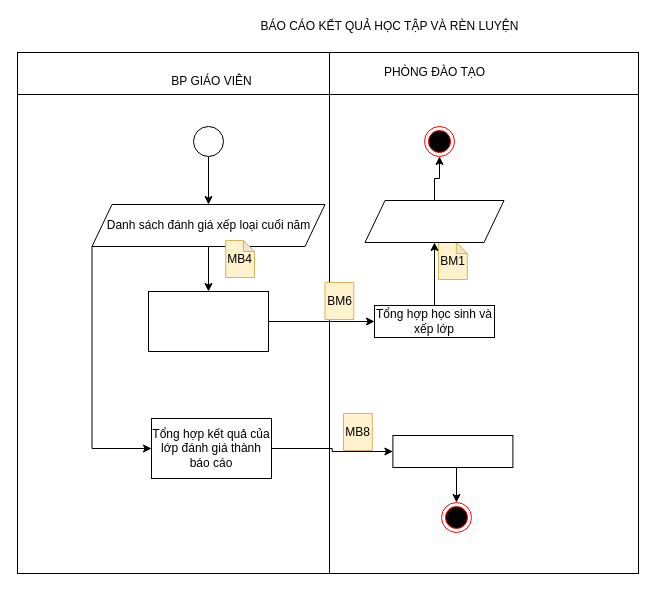
Some shapes in this 656 by 591 pixel diagram are drawn without their labels. The shapes that lost their labels are listed below. From the top down, each one's centre as x and y in pixels, then its label:
At (434,221): "Danh sách lớp học".
At (208,321): "Lập biên bản bàn giao".
At (452,451): "Tổng hợp kết quả thành báo cáo của toàn trường".
